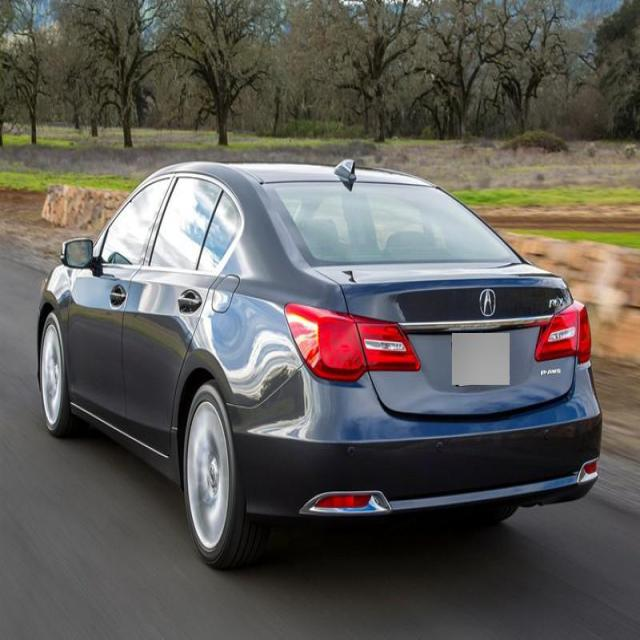back_glass: (265, 180, 532, 268)
back_left_side_light: (282, 304, 422, 385)
back_right_side_light: (534, 297, 594, 370)
door: (125, 181, 248, 426)
front_left_side_door: (65, 169, 179, 428)
front_left_side_mirror: (58, 235, 97, 278)
rear_bumper: (230, 354, 603, 517)
wheel: (181, 382, 249, 563), (42, 310, 74, 436)
